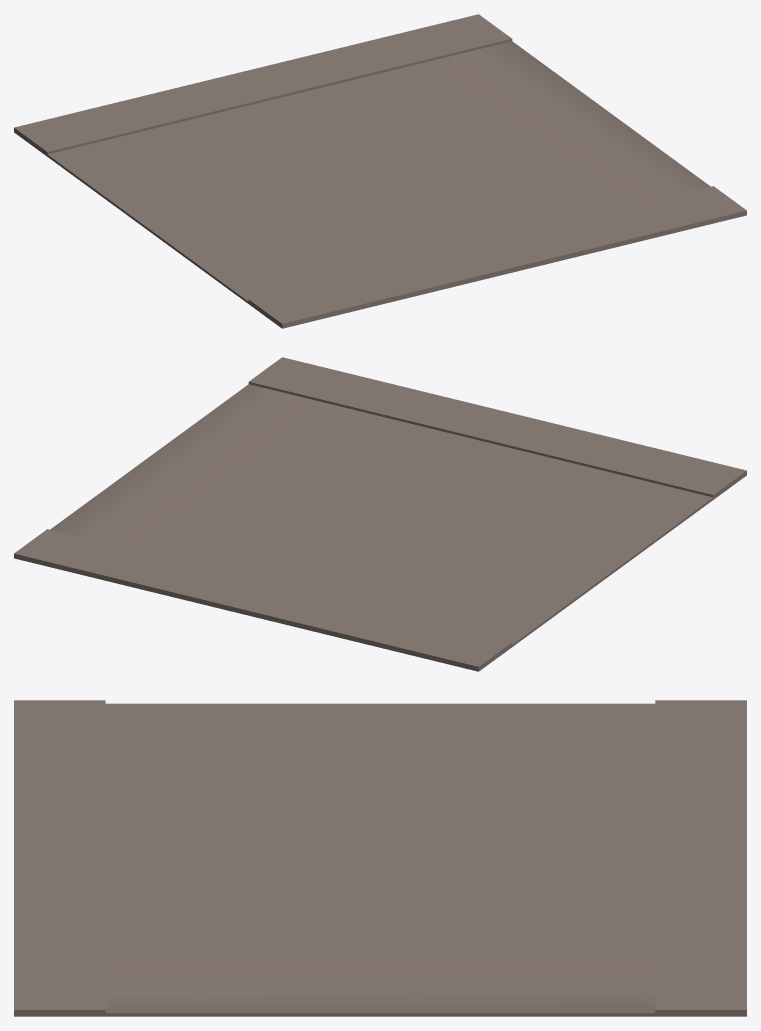
File: Env_2lane_col.fbx
3 views of the same model, one above another, from view 1: azimuth 30°, elevation 25°; view 2: azimuth 150°, elevation 25°; view 3: azimuth 270°, elevation 25° (orthographic). The views are drawn at different scales.
Visible parts, largest first — view 1: Env_2lane_col; view 2: Env_2lane_col; view 3: Env_2lane_col.
Part boxes in pixels (bbox=[...]): Env_2lane_col: bbox=[14, 14, 746, 328]; Env_2lane_col: bbox=[14, 357, 746, 671]; Env_2lane_col: bbox=[14, 700, 746, 1016].
Size of the model in its own units: 2000 by 20 by 2000.
